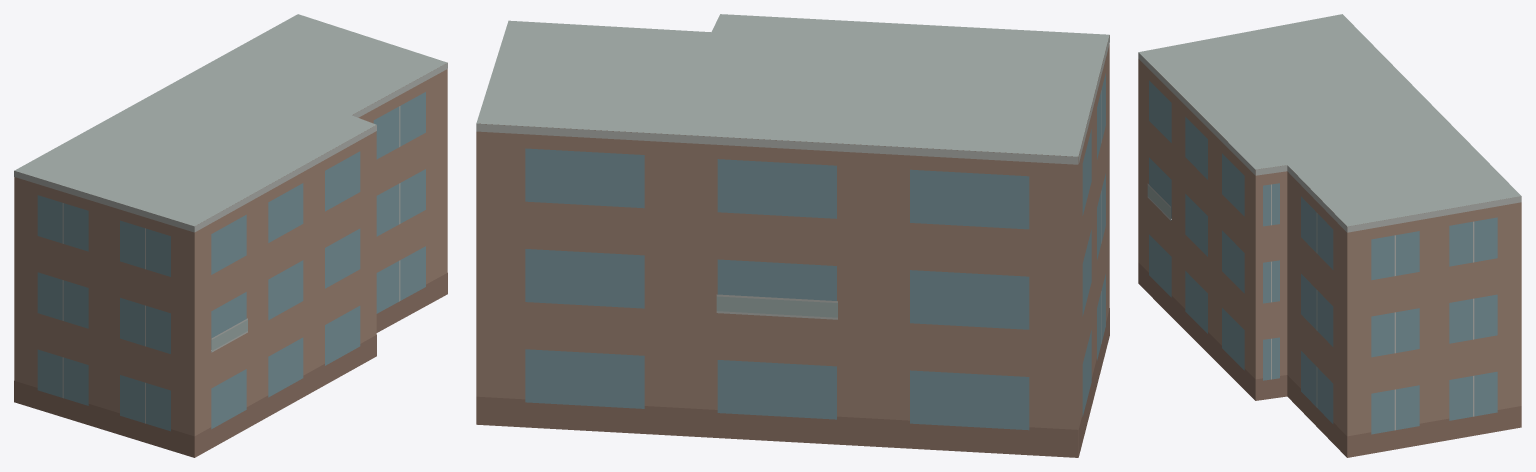
File: survey-upis-32598460.glb
The picture shows the model from 3 angles, left to right: view 1: azimuth 30°, elevation 25°; view 2: azimuth 150°, elevation 25°; view 3: azimuth 270°, elevation 25°; orthographic projection. The views are drawn at different scales.
Parts seen in each view (by area): view 1: survey-upis-32598460.tmp; view 2: survey-upis-32598460.tmp; view 3: survey-upis-32598460.tmp.
Boxes of the visible parts, x1,y1,x2,y2 form: survey-upis-32598460.tmp: (14, 14, 447, 457); survey-upis-32598460.tmp: (476, 14, 1109, 457); survey-upis-32598460.tmp: (1138, 14, 1521, 457).
Size of the model in its own units: 18.04 by 9.15 by 13.75.
